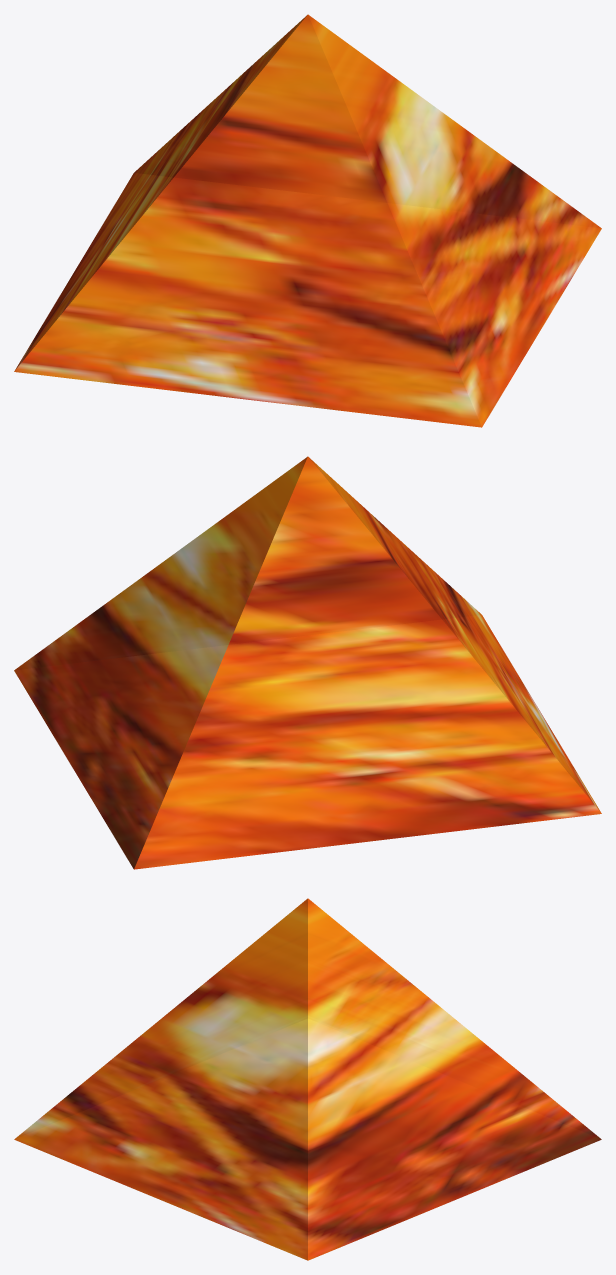
Rendered from Fiery Powerup.fbx.
3 views of the same model, one above another, from view 1: azimuth 30°, elevation 25°; view 2: azimuth 150°, elevation 25°; view 3: azimuth 270°, elevation 25° (orthographic). The views are drawn at different scales.
Parts seen in each view (by area): view 1: pPyramid1; view 2: pPyramid1; view 3: pPyramid1.
Boxes of the visible parts, left/top/right/bottom form: pPyramid1: left=14, top=14, right=601, bottom=427; pPyramid1: left=14, top=456, right=601, bottom=869; pPyramid1: left=14, top=898, right=601, bottom=1260.
Bounding box in the file's own units: 18.44 × 8.57 × 18.91.
Materials: 1 (1 with a texture image).
